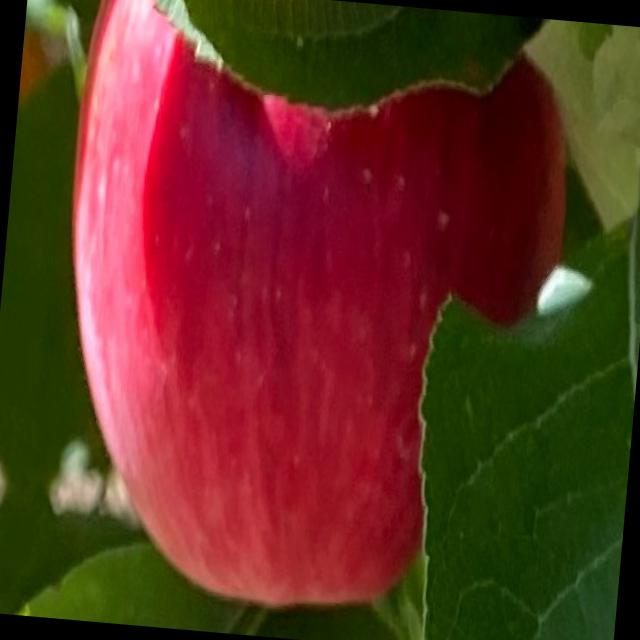Apples: (38, 0, 582, 629)
